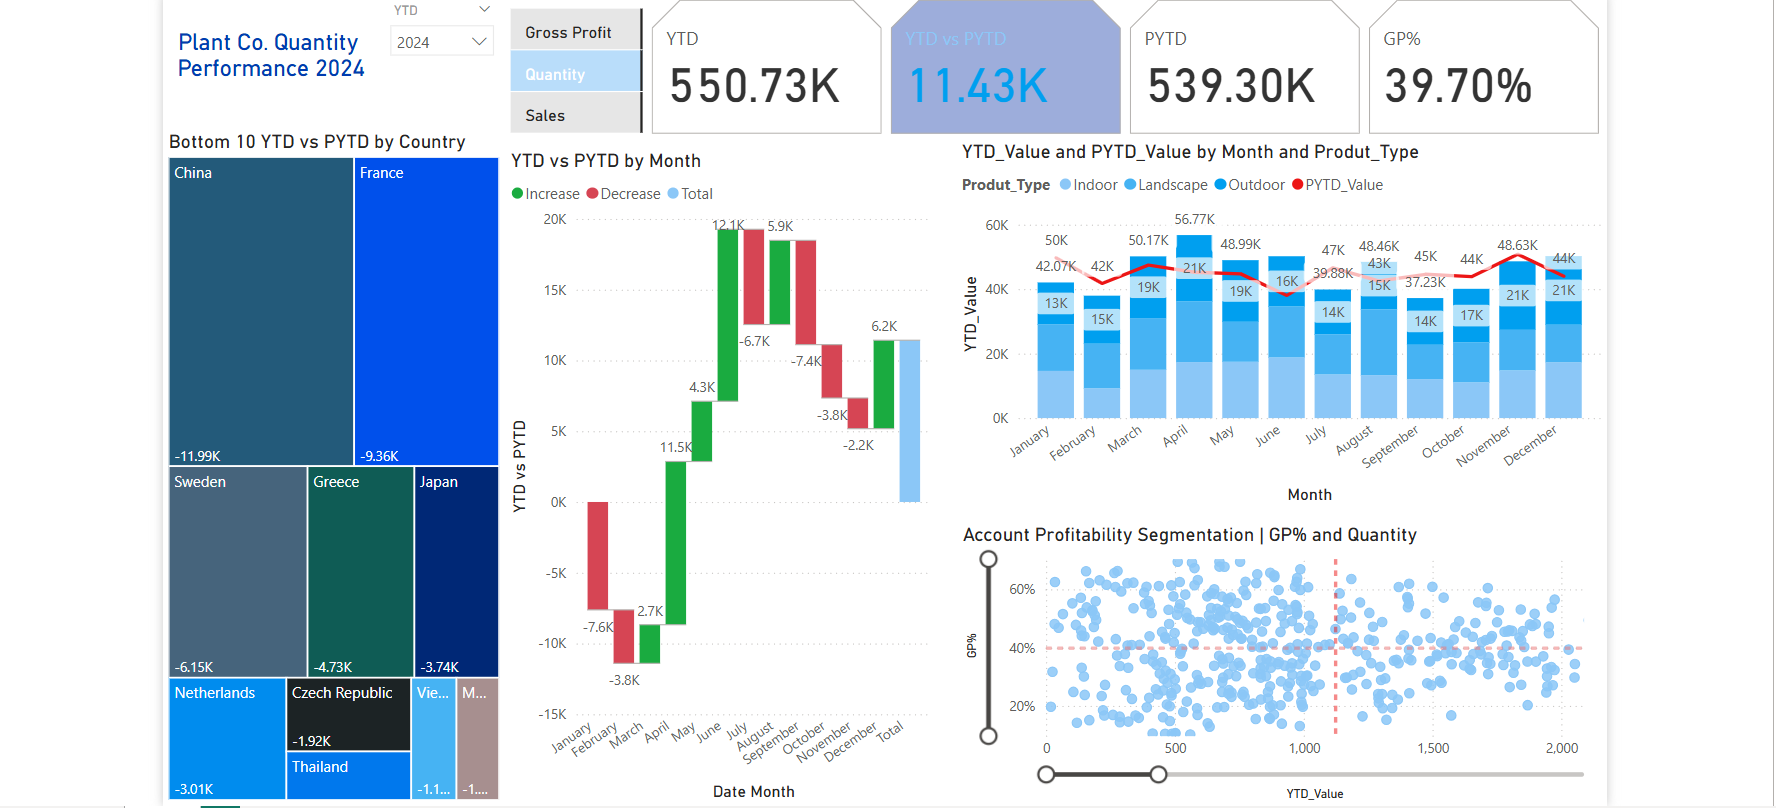

This screenshot's page, from the dashboard's own definition file:
{"tool":"powerbi","page":{"name":"Page 1","canvas":[1280,720],"ordinal":0},"visuals":[{"type":"cardVisual","fields":{"Data":["_Measures.S_YTD","_Measures.YTD vs PYTD","_Measures.S_PYTD","_Measures.GP%"]},"box":[427.9,0,852.3,129.1],"z":0},{"type":"advancedSlicerVisual","fields":{"Values":["Slicer Values.Values"]},"box":[303.5,8.1,127.9,120.9],"z":1000},{"type":"slicer","fields":{"Values":["Dim_Date.Date.Variation.Date Hierarchy.Year"]},"box":[192.3,13.5,110.2,50.9],"z":2000},{"type":"treemap","title":"Bottom 10 YTD vs PYTD by Country","fields":{"Values":["_Measures.YTD vs PYTD"],"Group":["Dim_Account.Country"]},"box":[0,137.2,303.5,583],"z":3000},{"type":"waterfallChart","fields":{"Y":["_Measures.YTD vs PYTD"],"Category":["Dim_Date.Date.Variation.Date Hierarchy.Month","Dim_Account.Country","Dim_Product.Produt_Type","Dim_Product.Product_Name_id"]},"box":[303.5,137.2,382.6,582.6],"z":4000},{"type":"lineStackedColumnComboChart","fields":{"Y":["_Measures.S_YTD"],"Y2":["_Measures.S_PYTD"],"Category":["Dim_Date.Date.Variation.Date Hierarchy.Month"],"Series":["Dim_Product.Produt_Type"]},"box":[703.5,129.1,576.7,327.9],"z":5000},{"type":"scatterChart","title":"Account Profitability Segmentation | GP% and Quantity","fields":{"Y":["_Measures.GP%"],"X":["_Measures.S_YTD"],"Category":["Dim_Account.Account"]},"box":[704,469,576,251],"z":6000},{"type":"card","fields":{"Values":["_Measures._Report title"]},"box":[0,0,192.3,64.4],"z":7000}]}

Visuals, with their boxes on the page's 1280x720 design canvas (x1, y1, x2, y2). These are canvas units, not pixel positions in the 1776x808 screenshot, which may show the page scaled, cropped or inside an application window:
cardVisual - _Measures.S_YTD x _Measures.YTD vs PYTD: bbox=[428, 0, 1280, 129]
advancedSlicerVisual - Slicer Values.Values: bbox=[304, 8, 431, 129]
slicer - Dim_Date.Date.Variation.Date Hierarchy.Year: bbox=[192, 14, 302, 64]
"Bottom 10 YTD vs PYTD by Country" treemap: bbox=[0, 137, 304, 720]
waterfallChart - _Measures.YTD vs PYTD x Dim_Date.Date.Variation.Date Hierarchy.Month: bbox=[304, 137, 686, 720]
lineStackedColumnComboChart - _Measures.S_YTD x _Measures.S_PYTD: bbox=[704, 129, 1280, 457]
"Account Profitability Segmentation | GP% and Quantity" scatterChart: bbox=[704, 469, 1280, 720]
card - _Measures._Report title: bbox=[0, 0, 192, 64]
